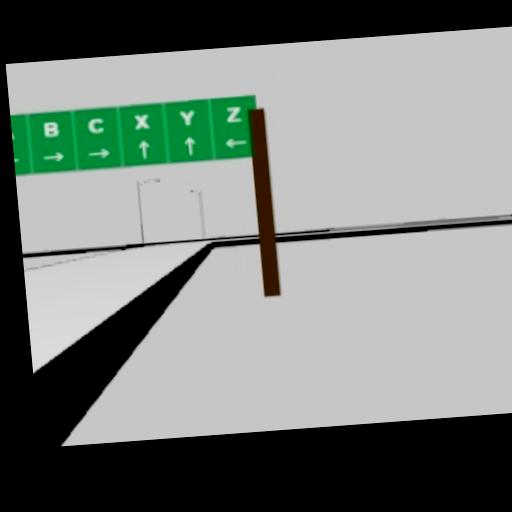B: (40, 118, 61, 140)
C: (85, 115, 106, 134)
Left: (224, 136, 248, 149), (14, 153, 20, 164)
Right: (86, 146, 112, 159), (40, 150, 66, 163)
Straight: (137, 138, 151, 158), (183, 135, 197, 155)
X: (132, 112, 151, 133)
Y: (179, 108, 196, 126)
Z: (224, 105, 243, 122)
